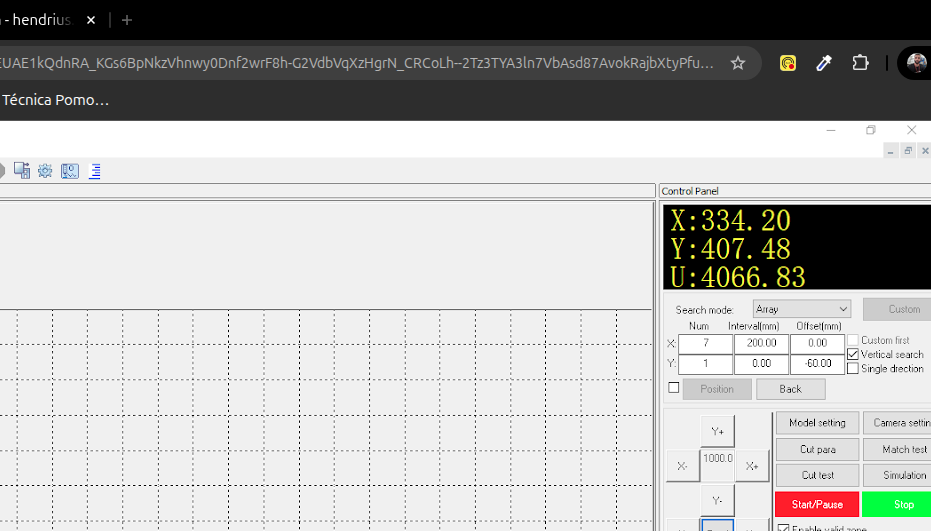start: (776, 491, 859, 516)
timer: (792, 318, 846, 374)
